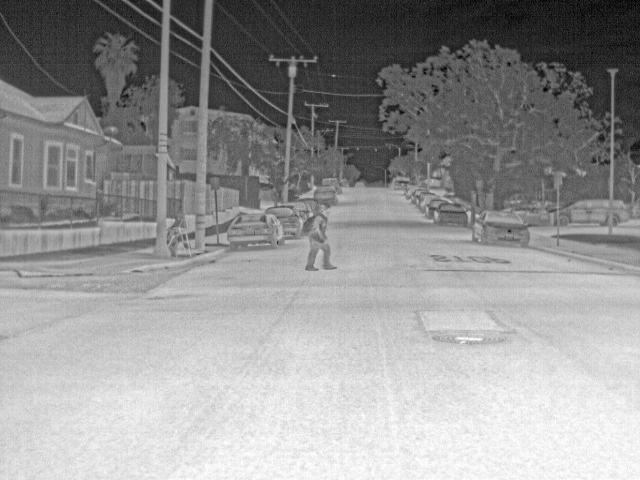car: (473, 207, 530, 247), (228, 213, 283, 248), (560, 196, 609, 227), (269, 204, 304, 238), (432, 201, 467, 223), (611, 198, 630, 228), (312, 188, 338, 206), (425, 197, 442, 216), (418, 191, 433, 211), (294, 200, 312, 216), (389, 176, 406, 192), (322, 176, 342, 188), (410, 188, 422, 206), (404, 184, 416, 198), (341, 176, 353, 188)
person: (303, 200, 339, 271)
